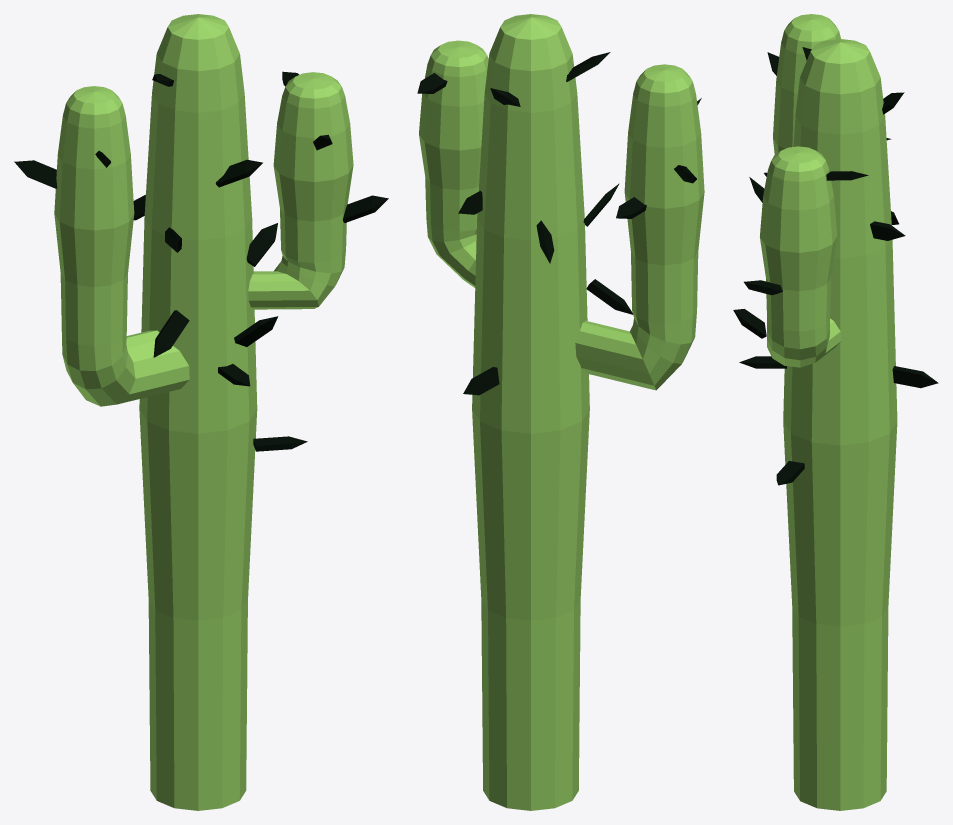
File: Cactus_1.fbx
3 renders of one model, left to right at view 1: azimuth 30°, elevation 25°; view 2: azimuth 150°, elevation 25°; view 3: azimuth 270°, elevation 25°, orthographic. The views are drawn at different scales.
Parts seen in each view (by area): view 1: Cactus; view 2: Cactus; view 3: Cactus.
Part boxes in pixels (x1,y1,x2,y2): Cactus: [14, 14, 388, 810]; Cactus: [417, 14, 704, 810]; Cactus: [733, 14, 938, 810].
Size of the model in its own units: 1.72 by 4.05 by 1.01.
